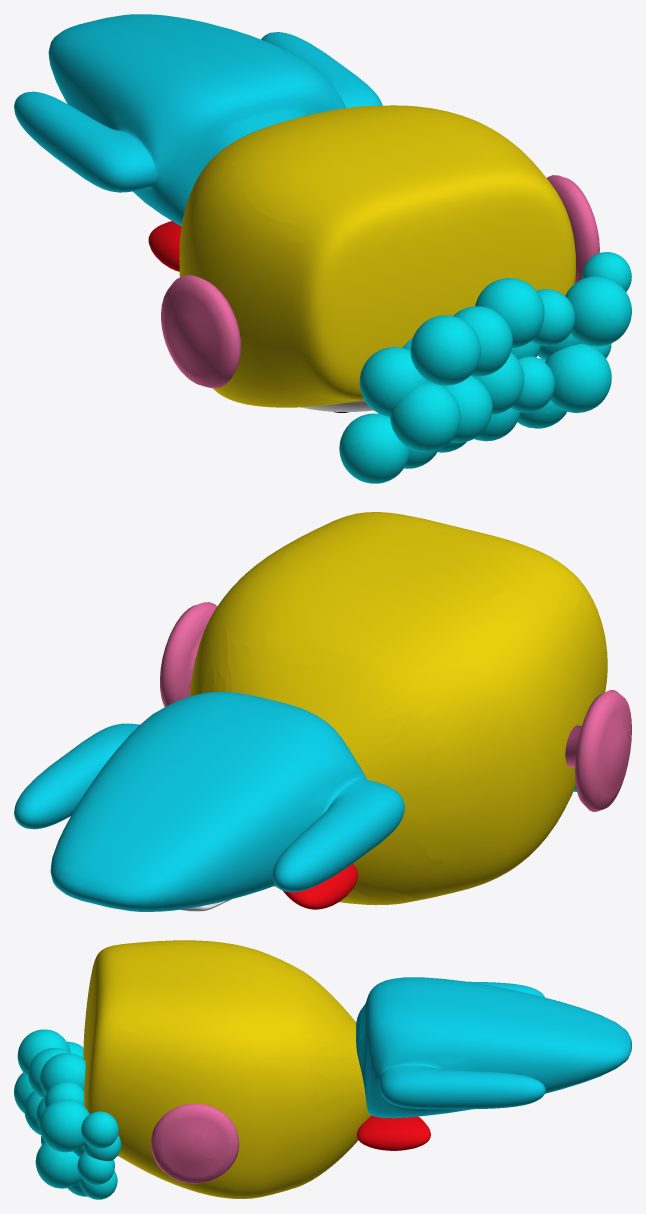
File: cloud_boy compressed.fbx
3 renders of one model, top to bottom at view 1: azimuth 30°, elevation 25°; view 2: azimuth 150°, elevation 25°; view 3: azimuth 270°, elevation 25°, orthographic. The views are drawn at different scales.
Parts seen in each view (by area): view 1: Cylinder.001; view 2: Cylinder.001; view 3: Cylinder.001.
Boxes of the visible parts, x1,y1,x2,y2 form: Cylinder.001: [14, 14, 631, 483]; Cylinder.001: [14, 512, 631, 911]; Cylinder.001: [14, 940, 631, 1199].
Size of the model in its own units: 211 by 135 by 365.
